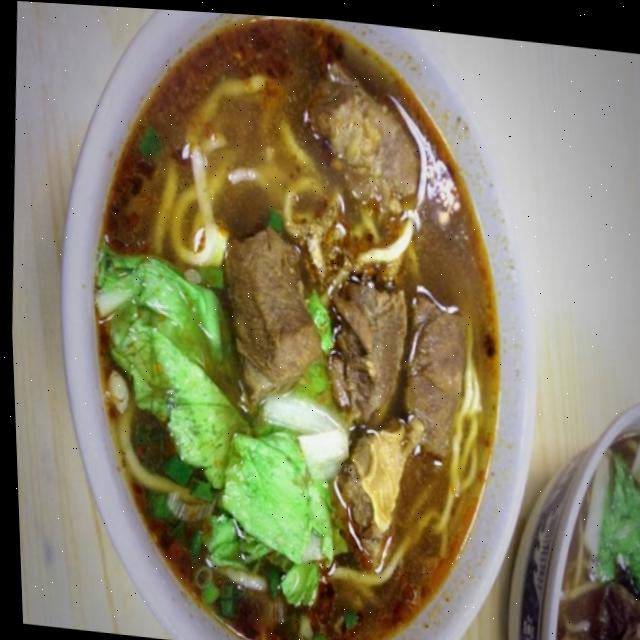面条主食: (68, 15, 557, 640)
